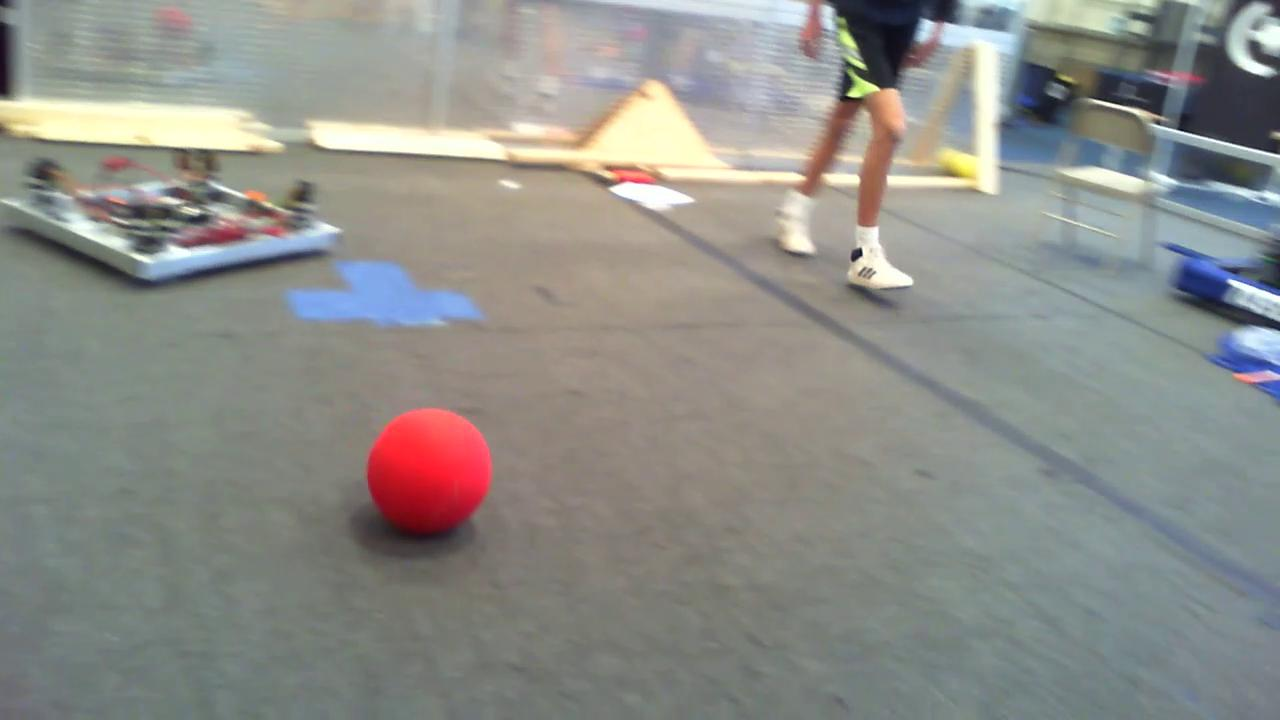Red_Ball: (346, 387, 498, 554)
